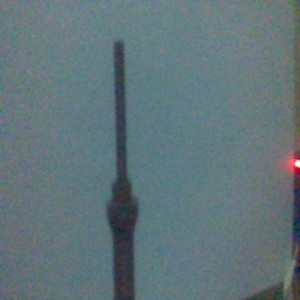obeng: (105, 39, 140, 300)
